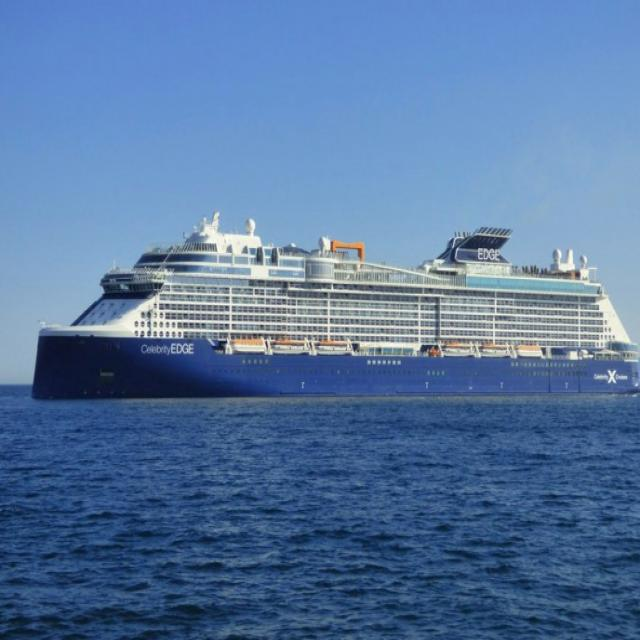cruises: (30, 204, 640, 408)
